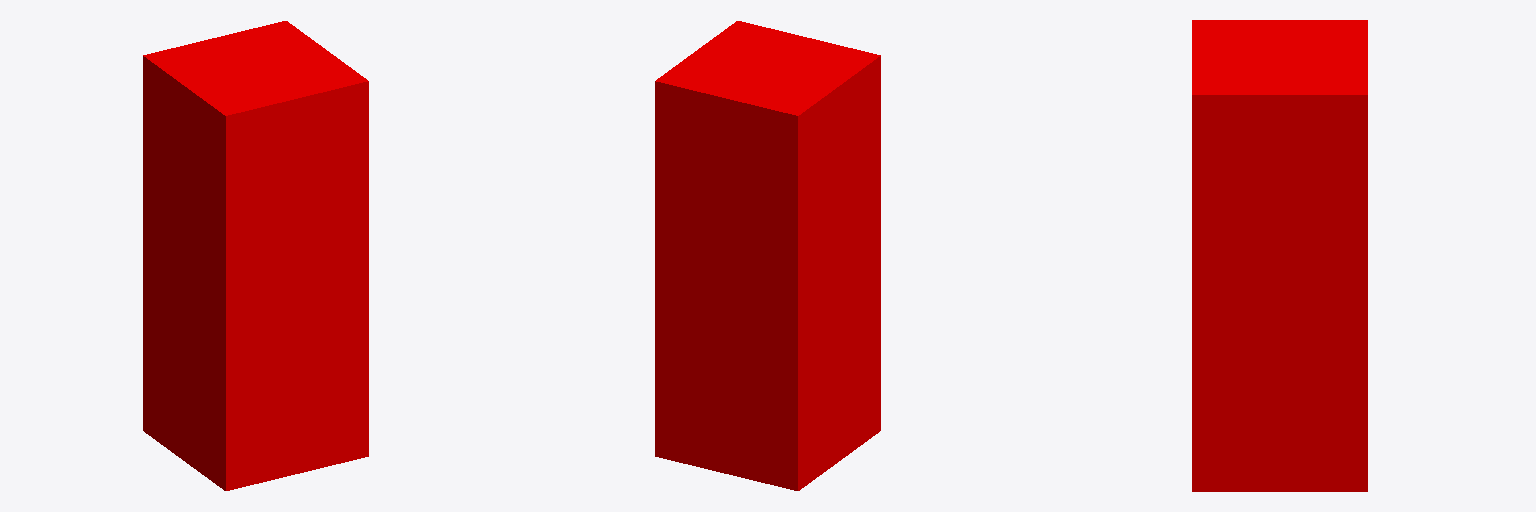
URDF robot description (wrench_apply):
<robot name="wrench_apply" xmlns:xacro="http://www.ros.org/wiki/xacro" >

    <link name="mylink">
        <inertial>
            <origin xyz="0.0 0.0 0.0" rpy="0.0 0.0 0.0"/>
            <mass value="1"/>
            <inertia ixx="1" ixy="0.0" ixz="0.0" iyy="1" iyz="0.0" izz="1"/>
        </inertial>
        <visual>
            <origin xyz="0.0 0.0 -0.5" rpy="0.0 0.0 0.0"/>
            <geometry>
                <box size="0.4 0.4 1"/>
            </geometry>
            <material name="white">
                <color rgba="1.0 0.0 0.0 1.0"/>
            </material>
        </visual>
        <collision>
            <origin xyz="0.0 0.0 -0.5" rpy="0.0 0.0 0.0"/>
            <geometry>
                <box size="0.4 0.4 1"/>
            </geometry>
        </collision>
    </link>

    <gazebo>
        <plugin name="wrench_apply" filename="libwrench_apply_plugin.so">
            <topic> /topicname </topic>
        </plugin>
    </gazebo>

</robot>

--- Facts derived from the render (not from the file) ---
3 views of the same robot in one strip: view 1: azimuth 30°, elevation 25°; view 2: azimuth 150°, elevation 25°; view 3: azimuth 270°, elevation 25° (orthographic).
Robot: wrench_apply — 1 links, 0 joints (none); root link mylink; default pose: all joints at 0.
Links seen in each view (by area): view 1: mylink; view 2: mylink; view 3: mylink.
Boxes of the visible links, x1,y1,x2,y2 form: mylink: (143,21,368,490); mylink: (655,21,880,490); mylink: (1192,20,1367,491).
Bounding box of the posed robot: 0.4 × 0.4 × 1 m (x, y, z).
Geometry: primitives only (box / cylinder / sphere), no mesh files.